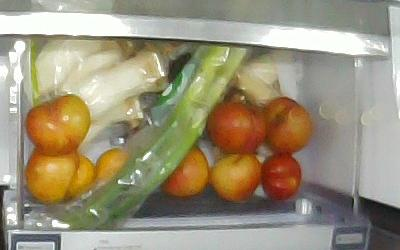prune: (24, 92, 91, 154), (204, 99, 267, 153), (24, 145, 80, 204), (262, 95, 314, 153), (159, 143, 209, 197), (208, 152, 260, 201), (260, 150, 302, 197)
tangerine: (66, 154, 95, 200), (94, 146, 128, 183)
